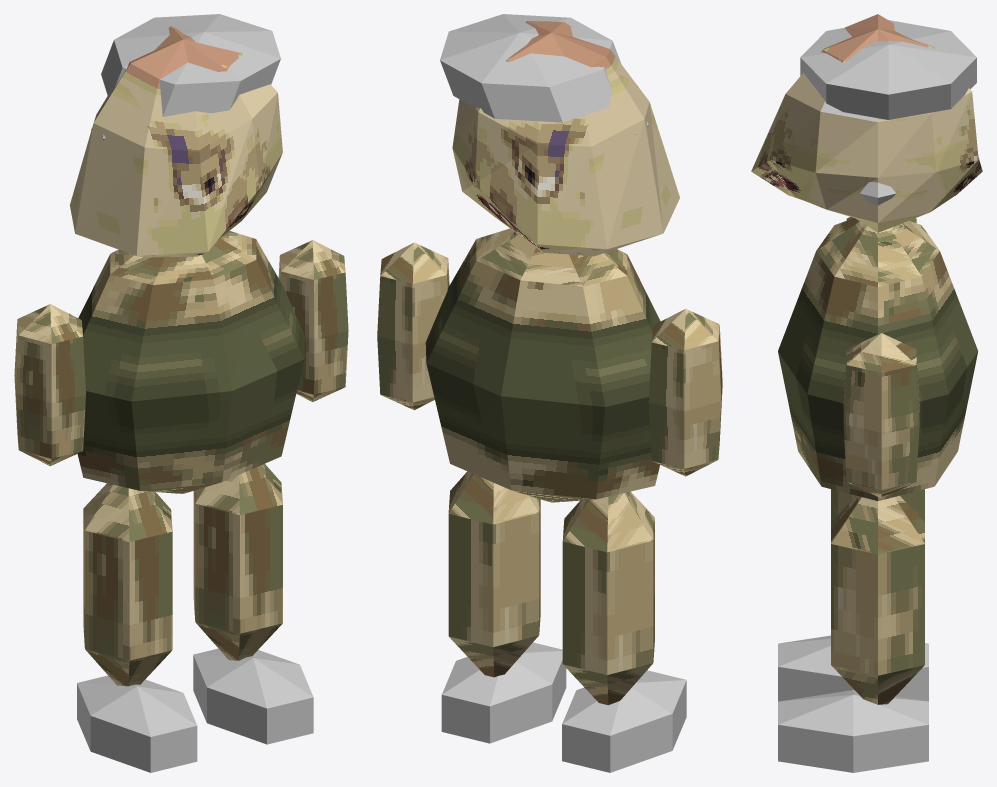
Rendered from mob_auntie.obj.
3 views of the same model, side by side, from view 1: azimuth 30°, elevation 25°; view 2: azimuth 150°, elevation 25°; view 3: azimuth 270°, elevation 25° (orthographic). The views are drawn at different scales.
Parts seen in each view (by area): view 1: torso, head, boots, legL, legR, armL, hat, armR; view 2: torso, head, boots, legL, legR, hat, armL, armR; view 3: torso, head, legR, boots, hat, armR, legL, ear.
Boxes of the visible parts, x1,y1,x2,y2 form: torso: [77, 231, 304, 493]; head: [70, 26, 282, 257]; boots: [77, 648, 313, 772]; legL: [83, 483, 172, 686]; legR: [193, 463, 282, 660]; armL: [14, 304, 85, 466]; hat: [101, 14, 280, 116]; armR: [278, 240, 348, 401]; torso: [425, 228, 660, 502]; head: [452, 21, 679, 256]; boots: [441, 642, 686, 772]; legL: [562, 491, 654, 705]; legR: [448, 471, 540, 677]; hat: [440, 14, 621, 122]; armL: [648, 309, 722, 476]; armR: [377, 242, 449, 410]; torso: [778, 218, 978, 500]; head: [751, 14, 982, 232]; legR: [831, 495, 924, 704]; boots: [778, 635, 928, 772]; hat: [800, 20, 976, 119]; armR: [843, 333, 919, 498]; legL: [831, 489, 924, 521]; ear: [860, 181, 895, 205].
Size of the model in its own units: 0.444 by 0.8915 by 0.2636.
